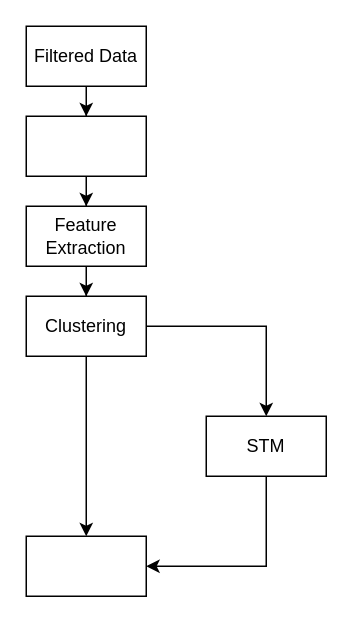
The diagram is 353 pixels wide and 623 high, and some of its shapes have lost their labels. Each missing label, with the centre of its shape:
"Evaluation" belongs at [85,565].
"Spike Detection" belongs at [85,145].
